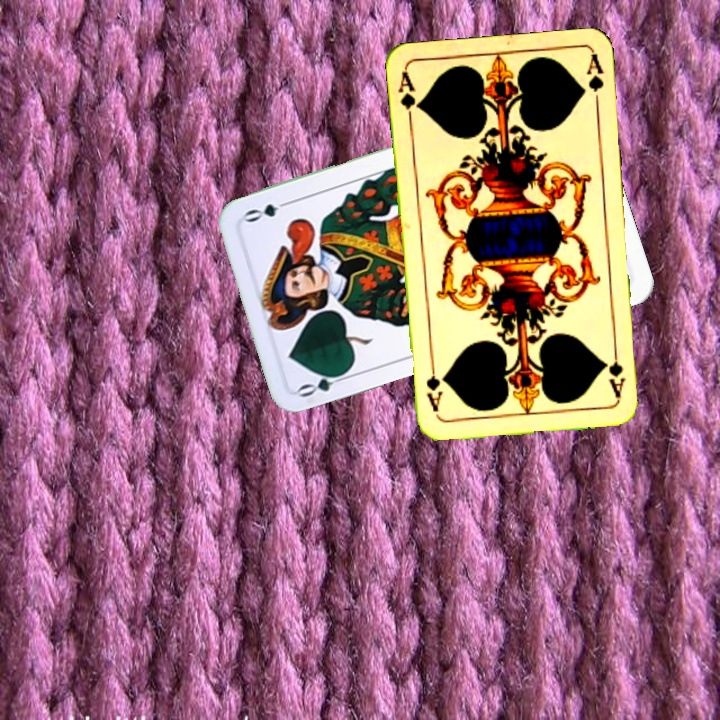GA: (394, 68, 423, 127), (603, 341, 628, 401)
GO: (294, 366, 353, 400)
